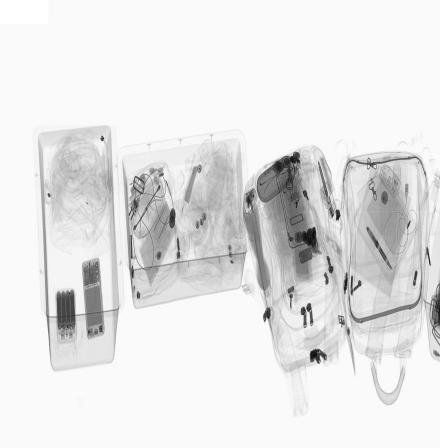Powerbank: (55, 287, 78, 343)
